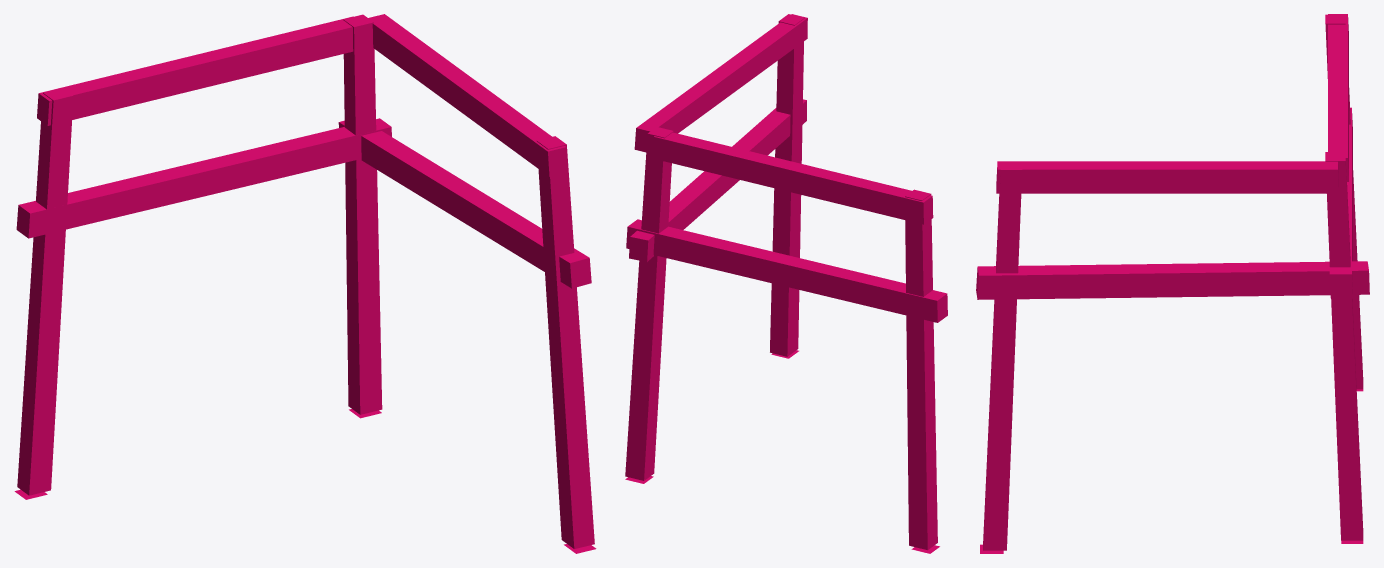
Rendered from Bastion_Pillar_03_Half_Lod0.fbx.
3 views of the same model, side by side, from view 1: azimuth 30°, elevation 25°; view 2: azimuth 150°, elevation 25°; view 3: azimuth 270°, elevation 25° (orthographic). The views are drawn at different scales.
Parts seen in each view (by area): view 1: Bastion_Pillar_03_Half_Lod0; view 2: Bastion_Pillar_03_Half_Lod0; view 3: Bastion_Pillar_03_Half_Lod0.
Boxes of the visible parts, x1,y1,x2,y2 form: Bastion_Pillar_03_Half_Lod0: (14, 14, 596, 553); Bastion_Pillar_03_Half_Lod0: (625, 14, 947, 553); Bastion_Pillar_03_Half_Lod0: (976, 14, 1369, 553).
Bounding box in the file's own units: 301 × 302 × 287.
